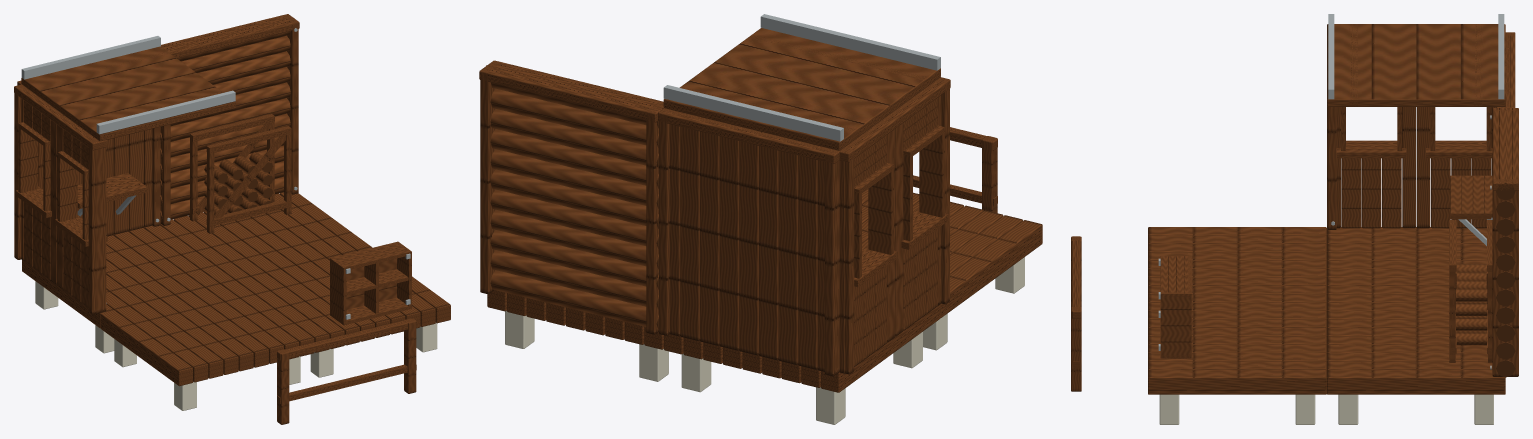
Rendered from modular-survival-base-builder-construction-and-service-fd5266f5__24313.glb.
3 views of the same model, side by side, from view 1: azimuth 30°, elevation 25°; view 2: azimuth 150°, elevation 25°; view 3: azimuth 270°, elevation 25° (orthographic). The views are drawn at different scales.
Parts seen in each view (by area): view 1: 006-wall-double-window/0, 005-wall-log-stack/0, 001-pier-foundation/1, 007-roof-flat-drained/0, 002-pier-foundation/1, 000-pier-foundation/1, 008-firewood-wall-rack/0, 003-pier-foundation/1, 010-wall-storage-cubby/0, 004-wall-solid-stud/0, 011-straight-guardrail/0, 007-roof-flat-drained/1 (+4 smaller); view 2: 005-wall-log-stack/0, 004-wall-solid-stud/0, 006-wall-double-window/0, 007-roof-flat-drained/0, 001-pier-foundation/1, 007-roof-flat-drained/1, 000-pier-foundation/1, 002-pier-foundation/1, 000-pier-foundation/0, 011-straight-guardrail/0, 002-pier-foundation/0, 001-pier-foundation/0; view 3: 003-pier-foundation/1, 006-wall-double-window/0, 007-roof-flat-drained/0, 002-pier-foundation/1, 001-pier-foundation/1, 000-pier-foundation/1, 005-wall-log-stack/0, 008-firewood-wall-rack/0, 010-wall-storage-cubby/0, 009-folding-wall-table/0, 011-straight-guardrail/0, 003-pier-foundation/0 (+3 smaller).
Boxes of the visible parts, bbox=[...] form: 006-wall-double-window/0: bbox=[14, 84, 107, 314]; 005-wall-log-stack/0: bbox=[160, 14, 299, 225]; 001-pier-foundation/1: bbox=[100, 280, 314, 386]; 007-roof-flat-drained/0: bbox=[21, 46, 235, 141]; 002-pier-foundation/1: bbox=[160, 192, 371, 280]; 000-pier-foundation/1: bbox=[22, 225, 235, 328]; 008-firewood-wall-rack/0: bbox=[190, 114, 291, 233]; 003-pier-foundation/1: bbox=[237, 247, 450, 352]; 010-wall-storage-cubby/0: bbox=[330, 241, 411, 325]; 004-wall-solid-stud/0: bbox=[17, 80, 160, 236]; 011-straight-guardrail/0: bbox=[277, 318, 416, 424]; 007-roof-flat-drained/1: bbox=[21, 36, 235, 134]; 005-wall-log-stack/0: bbox=[479, 60, 663, 334]; 004-wall-solid-stud/0: bbox=[658, 108, 839, 376]; 006-wall-double-window/0: bbox=[839, 77, 950, 374]; 007-roof-flat-drained/0: bbox=[663, 28, 940, 150]; 001-pier-foundation/1: bbox=[862, 189, 1042, 317]; 007-roof-flat-drained/1: bbox=[663, 14, 940, 141]; 000-pier-foundation/1: bbox=[664, 304, 940, 392]; 002-pier-foundation/1: bbox=[487, 290, 663, 349]; 000-pier-foundation/0: bbox=[681, 332, 922, 424]; 011-straight-guardrail/0: bbox=[913, 127, 997, 213]; 002-pier-foundation/0: bbox=[505, 310, 668, 381]; 001-pier-foundation/0: bbox=[923, 257, 1024, 350]; 003-pier-foundation/1: bbox=[1148, 302, 1326, 394]; 006-wall-double-window/0: bbox=[1327, 107, 1495, 229]; 007-roof-flat-drained/0: bbox=[1327, 24, 1505, 106]; 002-pier-foundation/1: bbox=[1327, 302, 1505, 394]; 001-pier-foundation/1: bbox=[1148, 227, 1326, 303]; 000-pier-foundation/1: bbox=[1327, 227, 1486, 302]; 005-wall-log-stack/0: bbox=[1492, 107, 1518, 377]; 008-firewood-wall-rack/0: bbox=[1449, 220, 1492, 362]; 010-wall-storage-cubby/0: bbox=[1160, 256, 1191, 358]; 009-folding-wall-table/0: bbox=[1450, 175, 1492, 219]; 011-straight-guardrail/0: bbox=[1071, 236, 1081, 391]; 003-pier-foundation/0: bbox=[1159, 394, 1315, 424].
Bounding box in the file's own units: 4.14 × 3.27 × 5.01.
3 materials, 1 textured.
